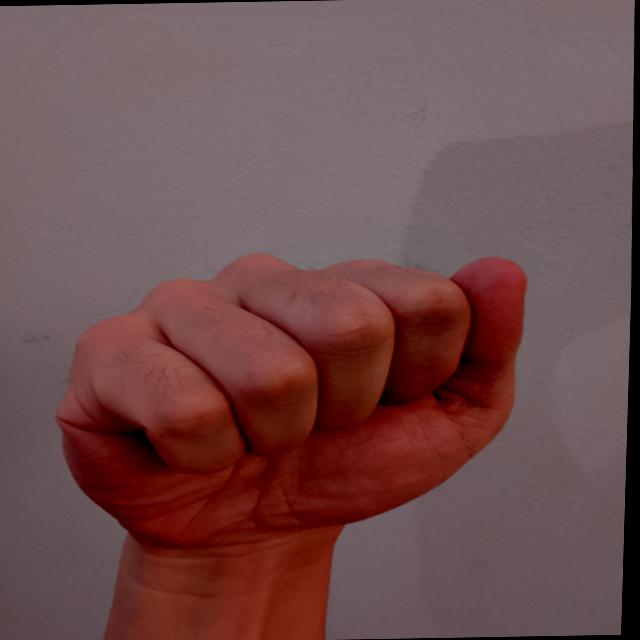A: (33, 236, 550, 562)
